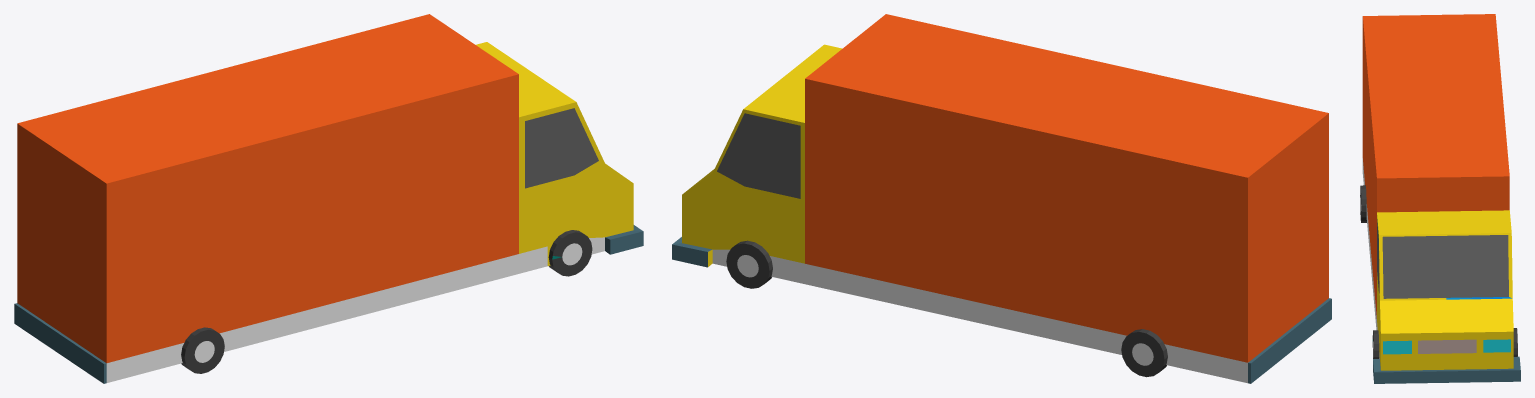
File: car_08_5_world_ap.17_0_lev1.glb
The picture shows the model from 3 angles, left to right: view 1: azimuth 30°, elevation 25°; view 2: azimuth 150°, elevation 25°; view 3: azimuth 270°, elevation 25°; orthographic projection. The views are drawn at different scales.
Parts seen in each view (by area): view 1: car_08_5_world_ap.17_0_lev1; view 2: car_08_5_world_ap.17_0_lev1; view 3: car_08_5_world_ap.17_0_lev1.
Boxes of the visible parts, x1,y1,x2,y2 form: car_08_5_world_ap.17_0_lev1: (14, 14, 643, 383); car_08_5_world_ap.17_0_lev1: (672, 14, 1331, 383); car_08_5_world_ap.17_0_lev1: (1360, 14, 1520, 383).
Bounding box in the file's own units: 2.72 × 0.9995 × 0.8685.
1 material, 1 textured.
